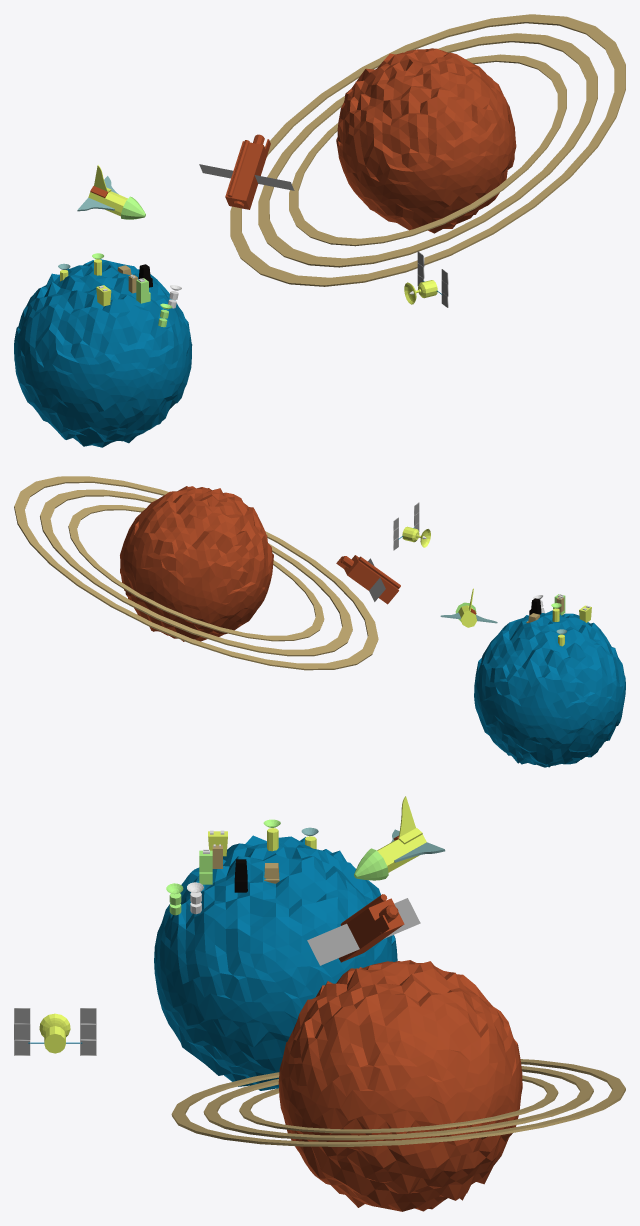
The model's file is space.fbx.
3 renders of one model, top to bottom at view 1: azimuth 30°, elevation 25°; view 2: azimuth 150°, elevation 25°; view 3: azimuth 270°, elevation 25°, orthographic. The views are drawn at different scales.
Parts seen in each view (by area): view 1: GeoSphere002, GeoSphere001, Circle002, Circle001, Circle003, Box001, Plane001; view 2: GeoSphere001, GeoSphere002, Circle002, Circle001, Circle003, Box001; view 3: GeoSphere002, GeoSphere001, Circle002, Circle001, Circle003, Plane001, Box001, Cylinder003, Cone001, Plane002, Plane003.
Part boxes in pixels (<box>): GeoSphere002: <box>336,48,516,233</box>; GeoSphere001: <box>14,259,192,447</box>; Circle002: <box>230,14,625,286</box>; Circle001: <box>258,33,597,267</box>; Circle003: <box>289,54,566,246</box>; Box001: <box>225,141,267,209</box>; Plane001: <box>199,164,294,190</box>; GeoSphere001: <box>474,610,625,767</box>; GeoSphere002: <box>120,486,273,641</box>; Circle002: <box>14,476,378,670</box>; Circle001: <box>40,489,352,656</box>; Circle003: <box>68,505,324,641</box>; Box001: <box>344,555,398,604</box>; GeoSphere002: <box>278,960,522,1211</box>; GeoSphere001: <box>154,835,397,1090</box>; Circle002: <box>171,1059,625,1146</box>; Circle001: <box>203,1066,593,1140</box>; Circle003: <box>239,1075,558,1133</box>; Plane001: <box>307,898,420,965</box>; Box001: <box>338,898,404,962</box>; Cylinder003: <box>377,834,426,872</box>; Cone001: <box>354,848,388,880</box>; Plane002: <box>14,1008,29,1054</box>; Plane003: <box>80,1008,95,1054</box>.
Size of the model in its own units: 1486 by 574 by 906.
